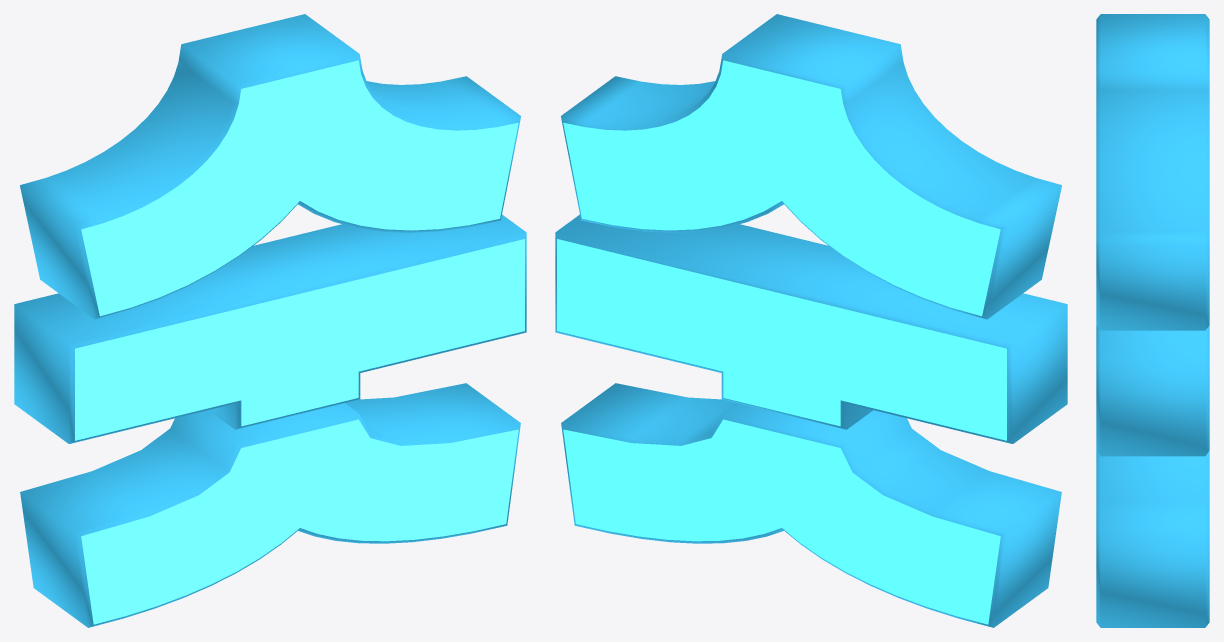
3 renders of one model, left to right at view 1: azimuth 30°, elevation 25°; view 2: azimuth 150°, elevation 25°; view 3: azimuth 270°, elevation 25°, orthographic. The views are drawn at different scales.
Visible parts, largest first — view 1: glyph; view 2: glyph; view 3: glyph.
Part boxes in pixels (left/top/right/bottom): glyph: left=14, top=14, right=526, bottom=627; glyph: left=555, top=14, right=1067, bottom=627; glyph: left=1096, top=14, right=1209, bottom=627.
Size of the model in its own units: 0.0726 by 0.077 by 0.0162.
